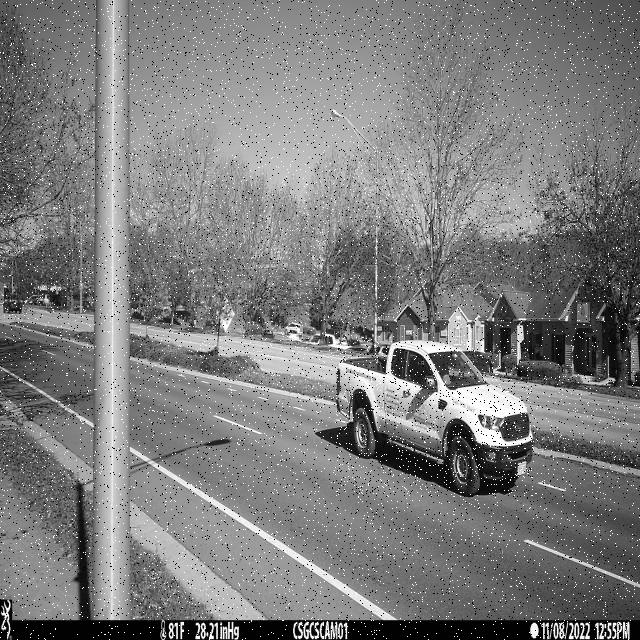Pickup: (336, 341, 533, 497)
